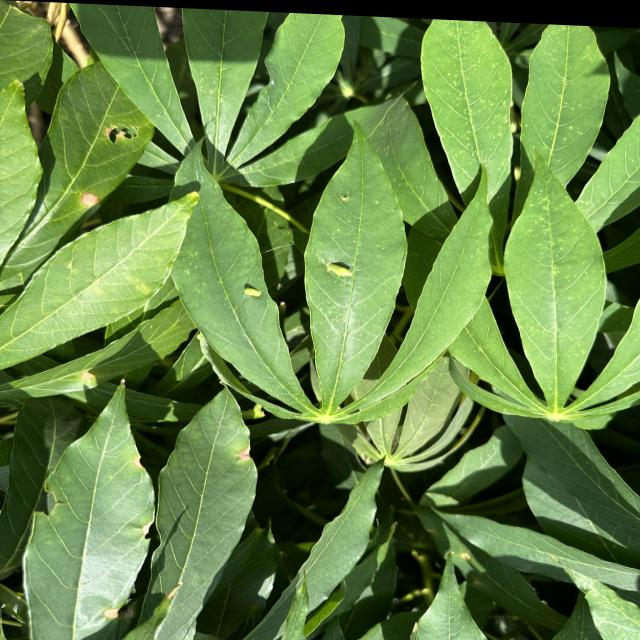Mosca: (316, 254, 359, 285), (334, 181, 361, 216), (240, 283, 264, 309)
